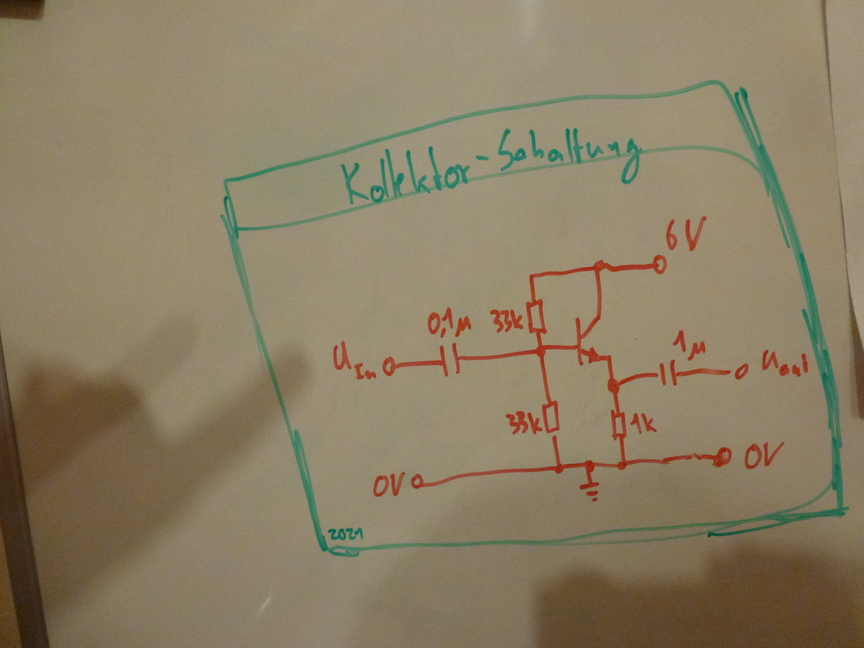capacitor.unpolarized: (429, 341, 473, 379), (650, 358, 687, 389)
gnd: (577, 479, 604, 504)
junction: (603, 376, 625, 397), (590, 256, 610, 279), (531, 342, 550, 363), (577, 457, 596, 474), (614, 457, 630, 474), (552, 461, 568, 477), (525, 271, 538, 282)
resistor: (523, 293, 552, 341), (542, 396, 563, 441), (606, 406, 629, 442)
terminal: (708, 444, 733, 469), (724, 360, 751, 383), (648, 252, 671, 277), (380, 355, 401, 377), (408, 472, 427, 491)
text: (340, 126, 646, 205), (328, 339, 378, 381), (663, 212, 709, 254), (758, 347, 812, 379), (425, 305, 473, 339), (742, 441, 785, 472), (671, 328, 710, 361), (502, 407, 544, 437), (486, 306, 526, 334), (370, 470, 406, 499), (327, 525, 367, 543), (629, 412, 658, 435)
transistor: (571, 309, 621, 370)
